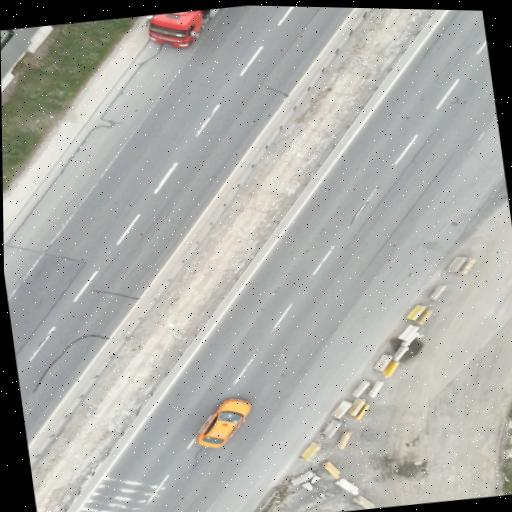car: (195, 399, 250, 448)
truck: (144, 9, 219, 48)
